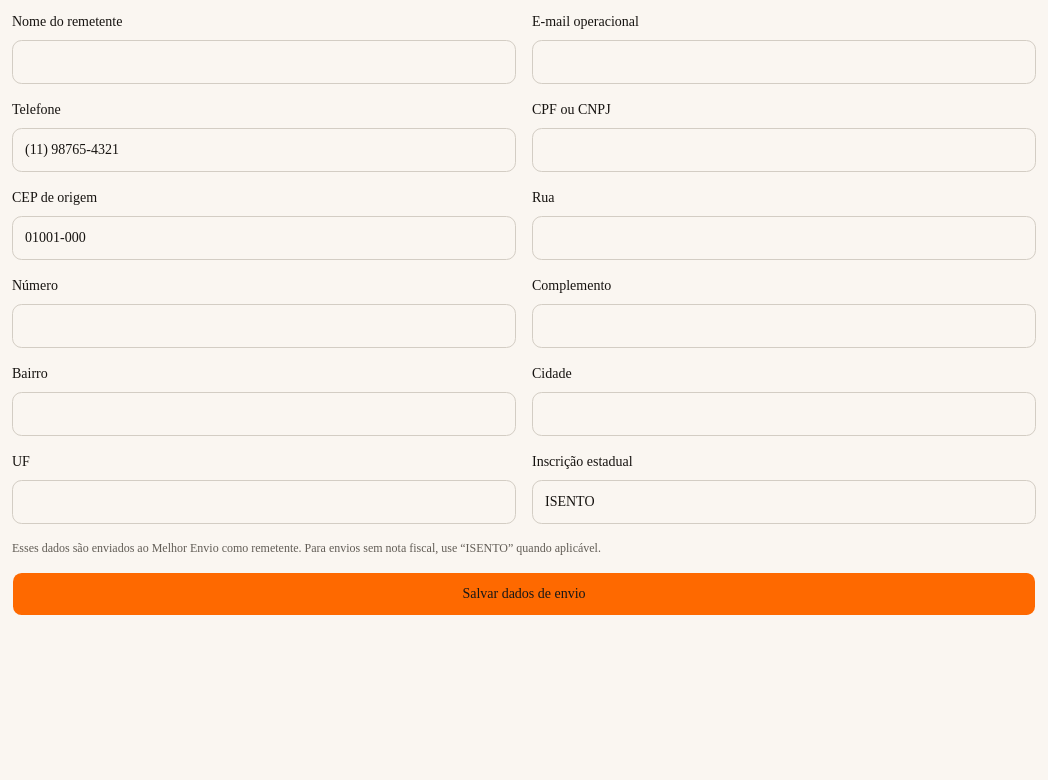
it: formats the phone, CEP and CPF or CNPJ while typing and shows saved digits formatted
The width and height of the screenshot is (1048, 780).
Expected: the field labelled "CEP de origem" holds "01001-000", [12,216,516,260]
Expected: the field labelled "Telefone" holds "(11) 98765-4321", [12,128,516,172]
Step 1. Type "11222333000181" into the field labelled "CPF ou CNPJ" → (784, 150), box [532,128,1036,172]
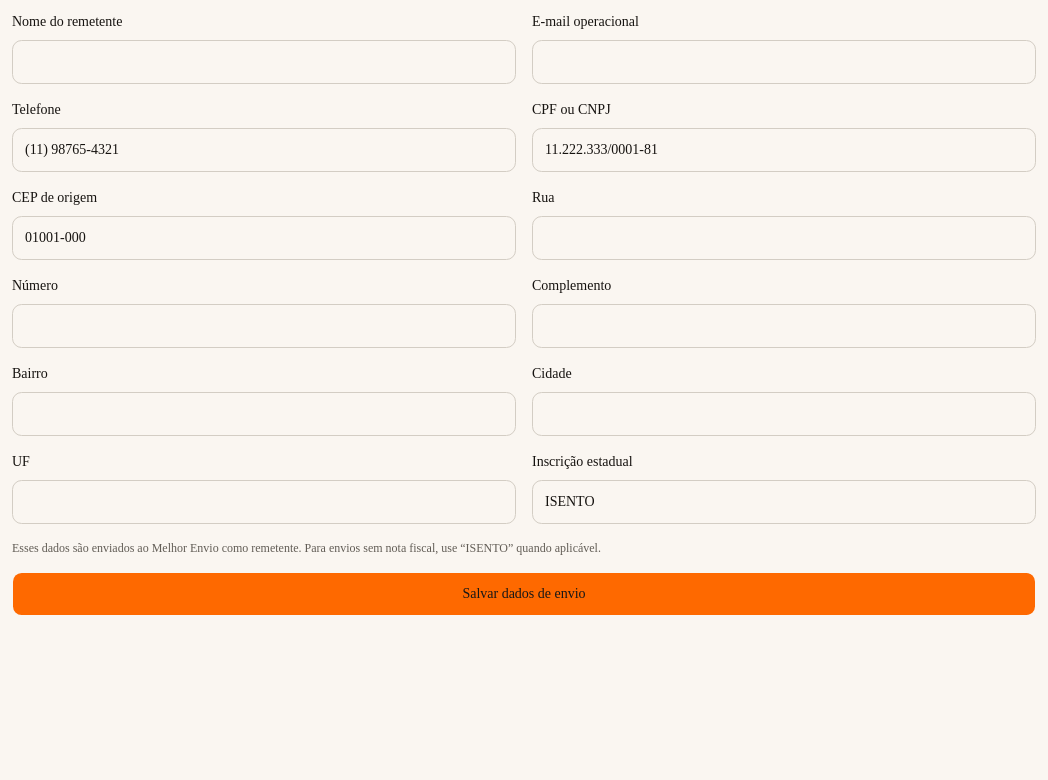
Now the field labelled "CPF ou CNPJ" holds "11.222.333/0001-81"
Step 2. Replace the text in the field labelled "CPF ou CNPJ" with "52998224725" → (784, 150), box [532,128,1036,172]
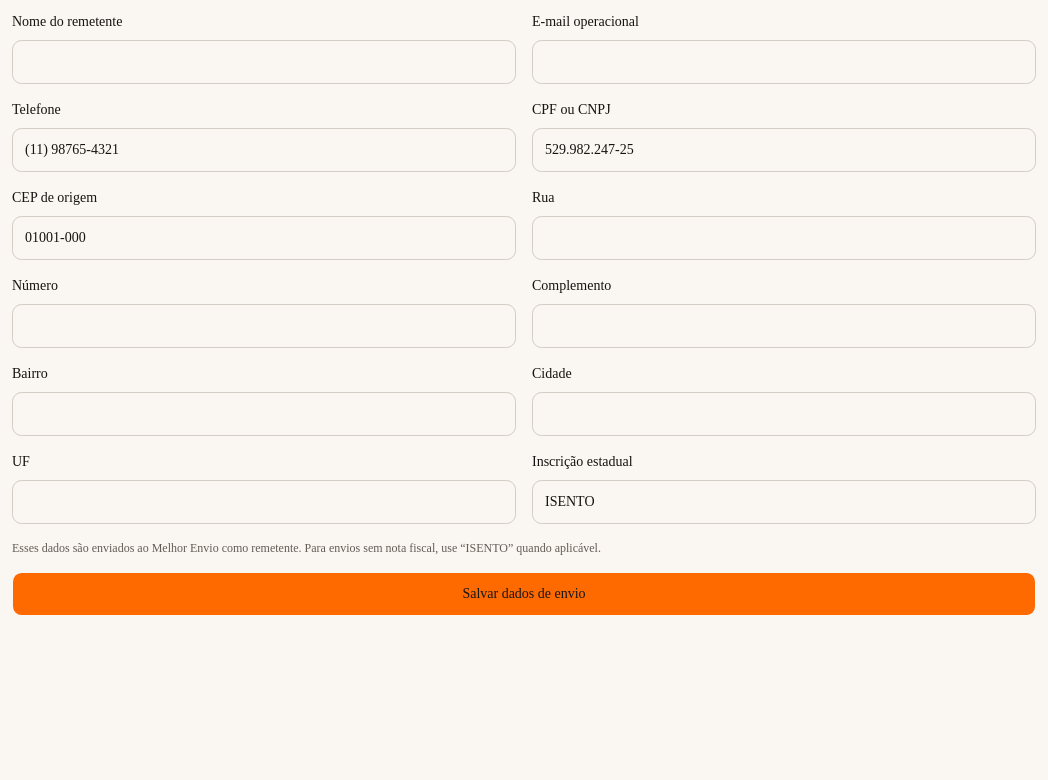
Now the field labelled "CPF ou CNPJ" holds "529.982.247-25", box [532,128,1036,172]
